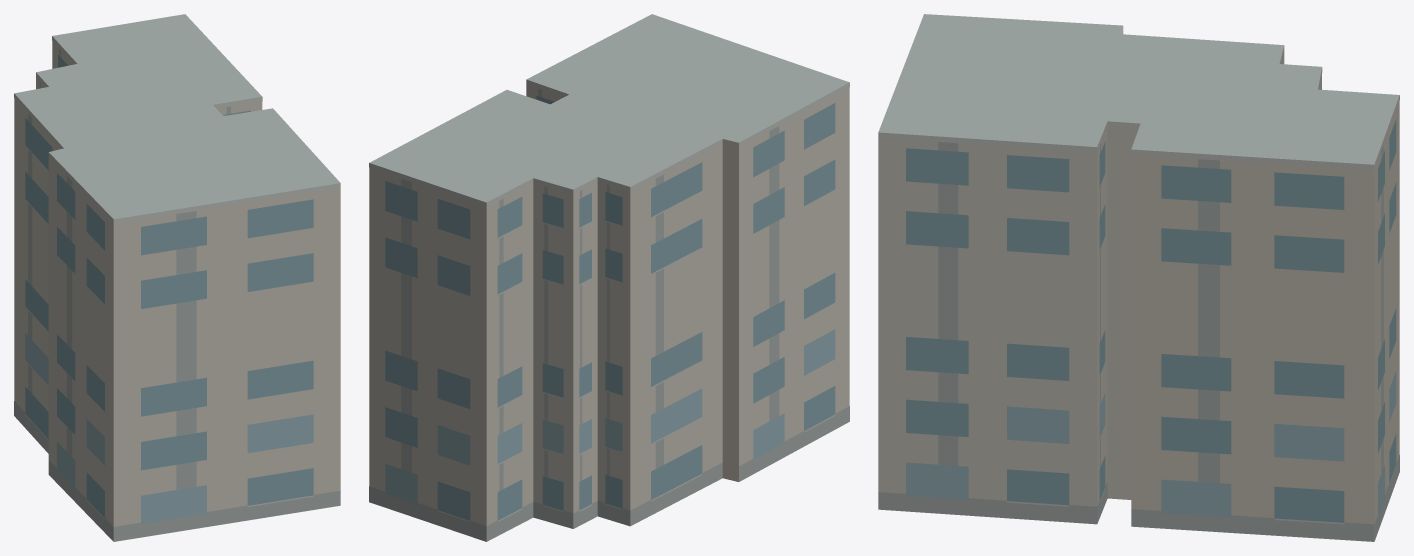
File: survey-upis-33021913.glb
3 renders of one model, left to right at view 1: azimuth 30°, elevation 25°; view 2: azimuth 150°, elevation 25°; view 3: azimuth 270°, elevation 25°, orthographic. The views are drawn at different scales.
Parts seen in each view (by area): view 1: survey-upis-33021913.tmp; view 2: survey-upis-33021913.tmp; view 3: survey-upis-33021913.tmp.
Part boxes in pixels (x1=…): survey-upis-33021913.tmp: x1=14, y1=14, x2=340, y2=541; survey-upis-33021913.tmp: x1=369, y1=14, x2=849, y2=541; survey-upis-33021913.tmp: x1=878, y1=14, x2=1399, y2=541.
Size of the model in its own units: 14.34 by 16.72 by 20.96.
